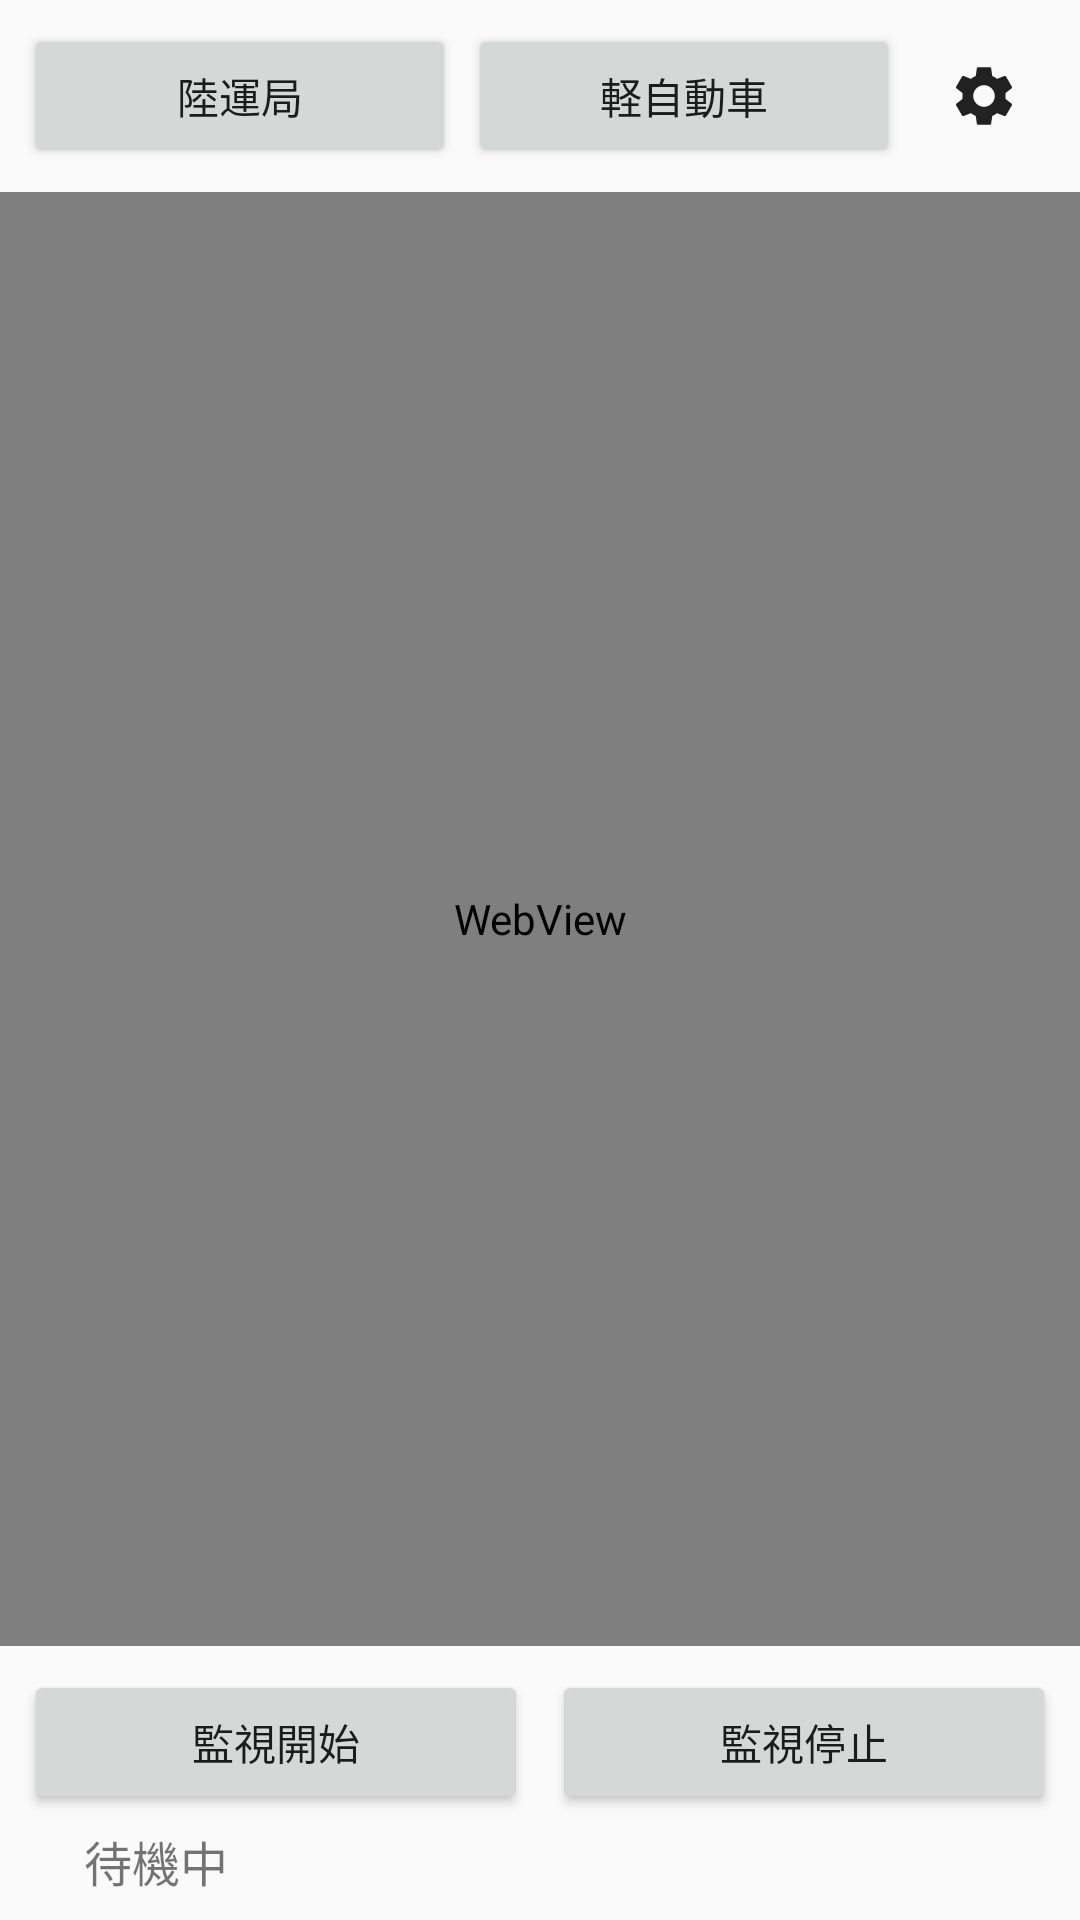

Named icons in this screenshot (1080 x 1920) and their centers, point (x, y):
設定: point (984, 96)
